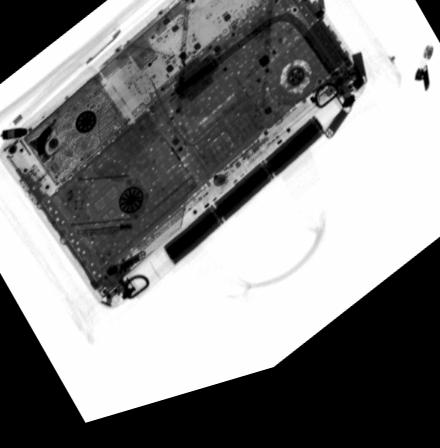Bullet: (0, 126, 28, 139)
